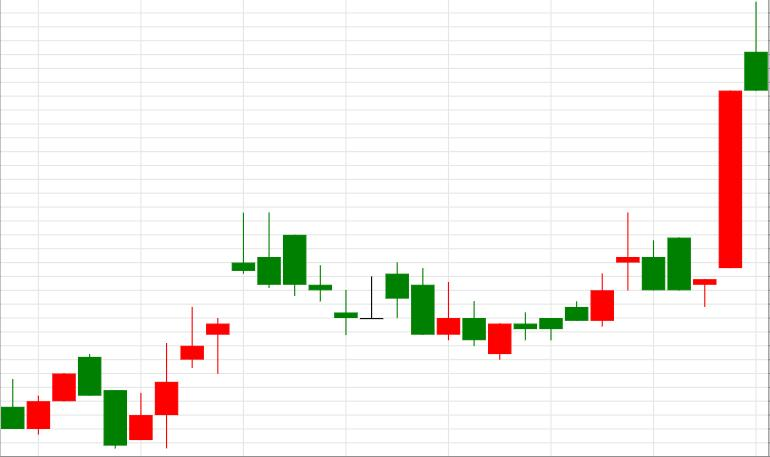shooting_star_fall: (488, 2, 767, 361), (129, 213, 281, 449)
